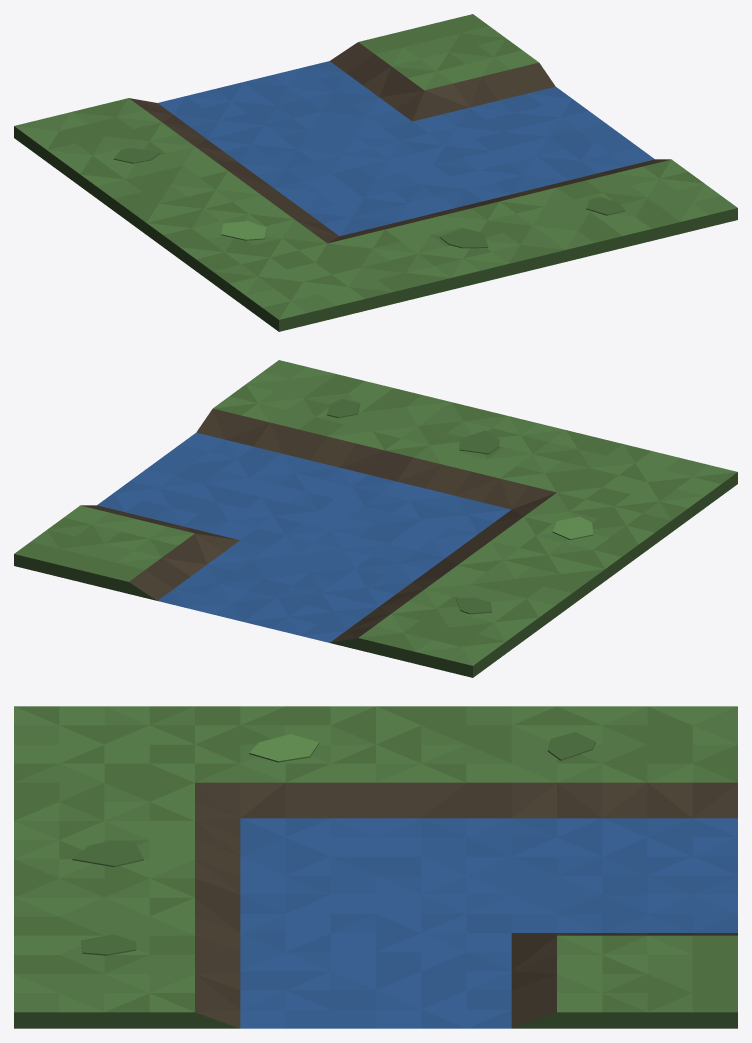
Rendered from river_bend_grass.glb.
3 views of the same model, one above another, from view 1: azimuth 30°, elevation 25°; view 2: azimuth 150°, elevation 25°; view 3: azimuth 270°, elevation 25° (orthographic). The views are drawn at different scales.
Parts seen in each view (by area): view 1: river_bend_grass; view 2: river_bend_grass; view 3: river_bend_grass.
Part boxes in pixels (x1,y1,x2,y2): river_bend_grass: (14,14,737,331); river_bend_grass: (14,360,737,677); river_bend_grass: (14,706,737,1028).
Bounding box in the file's own units: 4 × 0.108 × 4.
